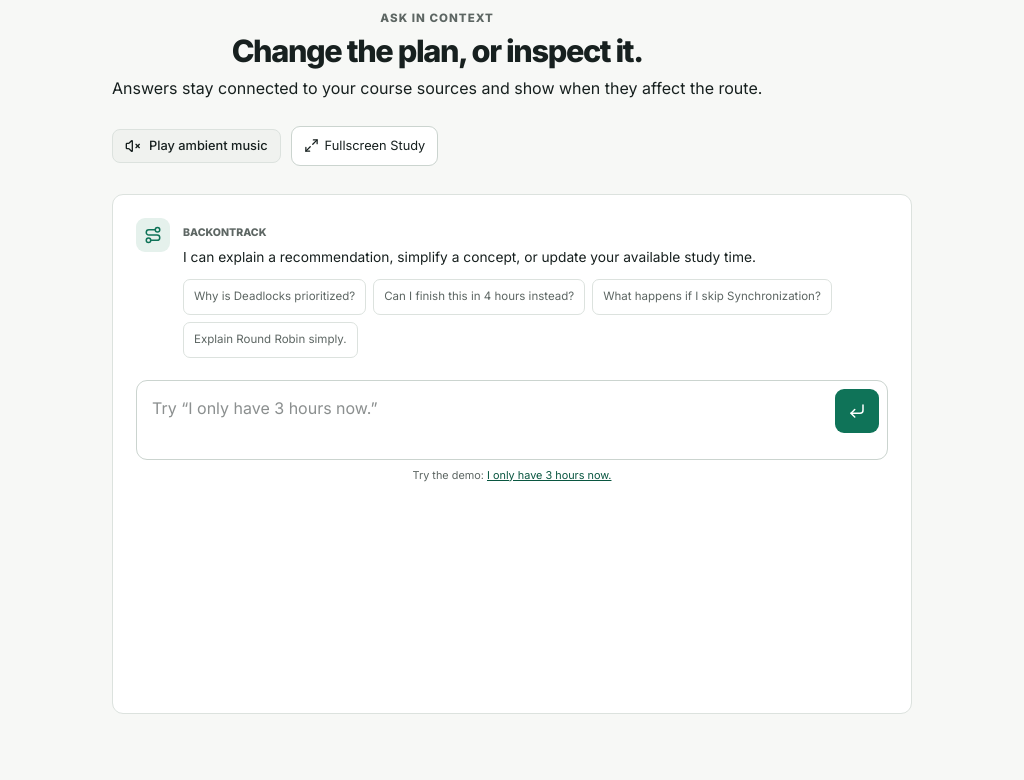
BackOnTrack deterministic demo › treats a three-hour message as structured plan input
Type "I only have 3 hours now." into the text box named "Ask about your plan".
click(486, 420); type("I only have 3 hours now.")  # box [145,389,827,451]
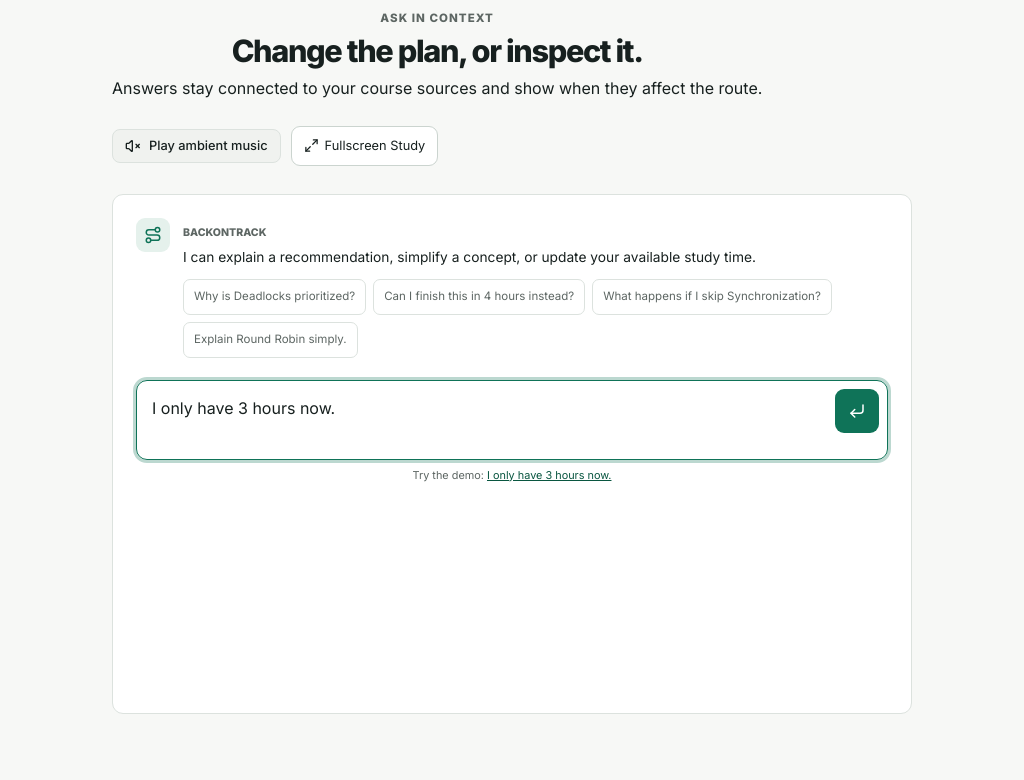
Click the button named "Send message".
click(857, 411)  # box [835,389,879,433]
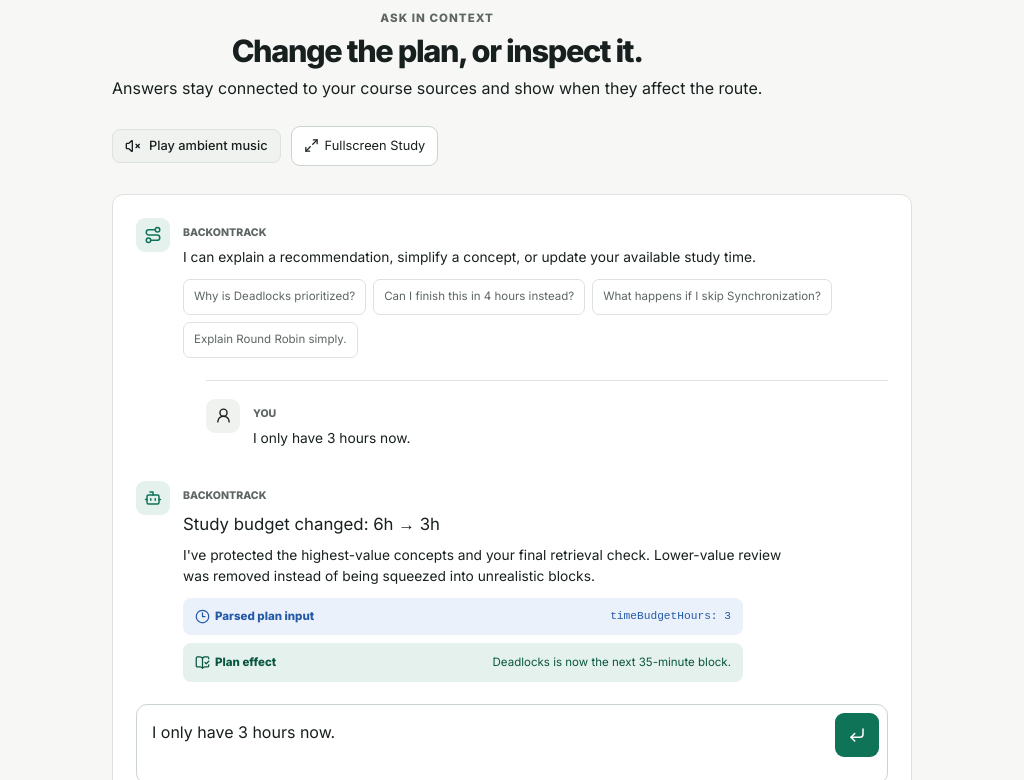
Result: the heading "Study budget changed: 6h → 3h" is shown at [183,514,440,534]
Result: the text "timeBudgetHours: 3" is shown at [610,608,731,625]
Result: the text "Deadlocks is now the next 35-minute block." is shown at [493,653,731,672]
